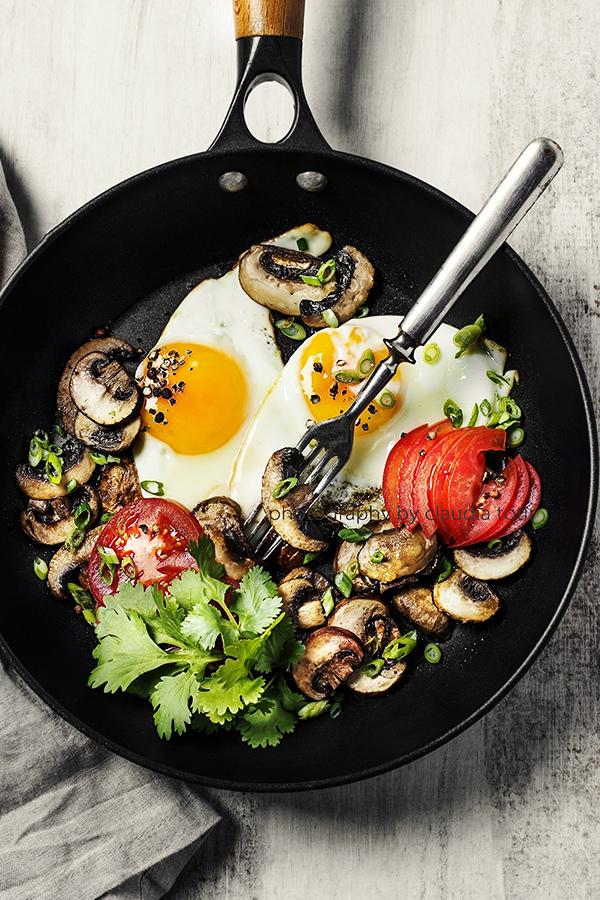chopped lettuce: (112, 589, 287, 692)
fried egg: (163, 280, 268, 508)
